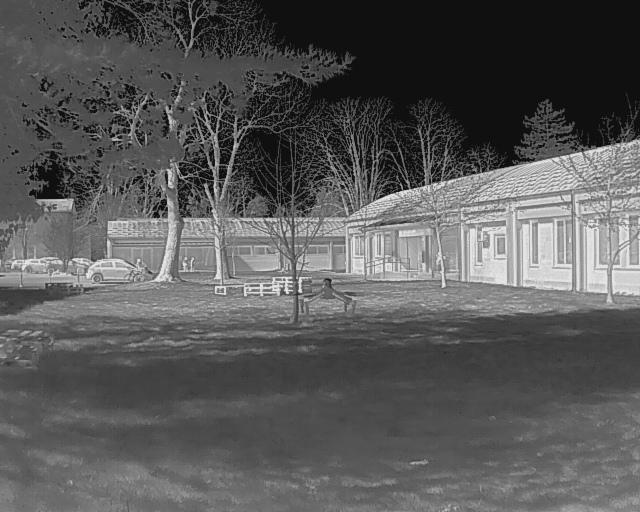drone: (288, 268, 364, 334)
